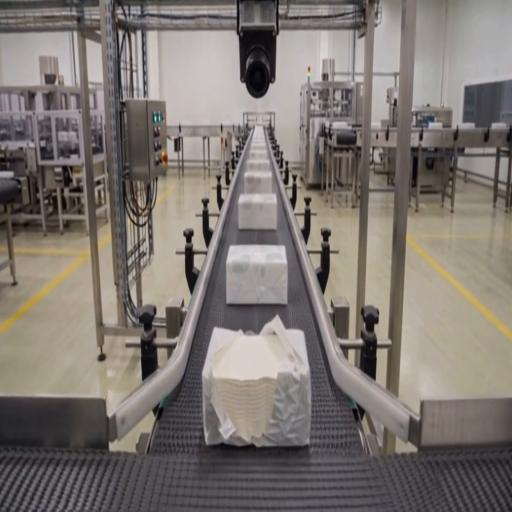defective: (202, 322, 310, 450)
good: (226, 244, 288, 306), (237, 192, 279, 232), (245, 149, 270, 177), (242, 171, 272, 194), (249, 130, 268, 145)
